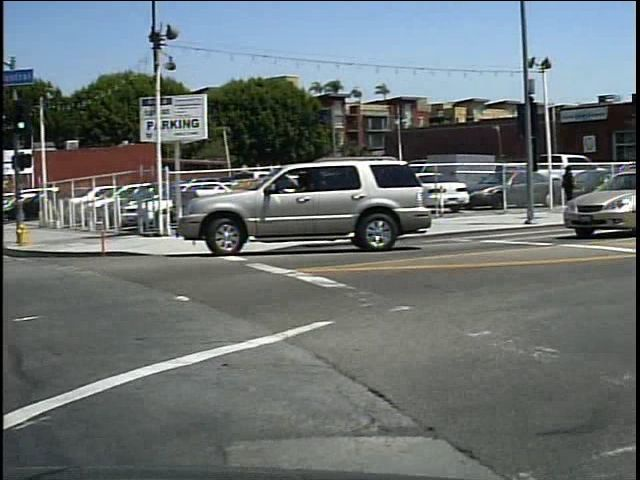person: (561, 161, 584, 216)
